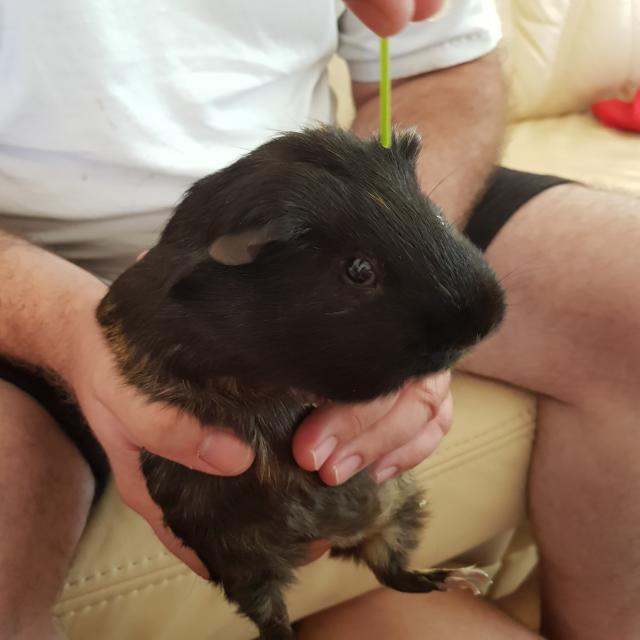guinea pig: (93, 120, 510, 640)
